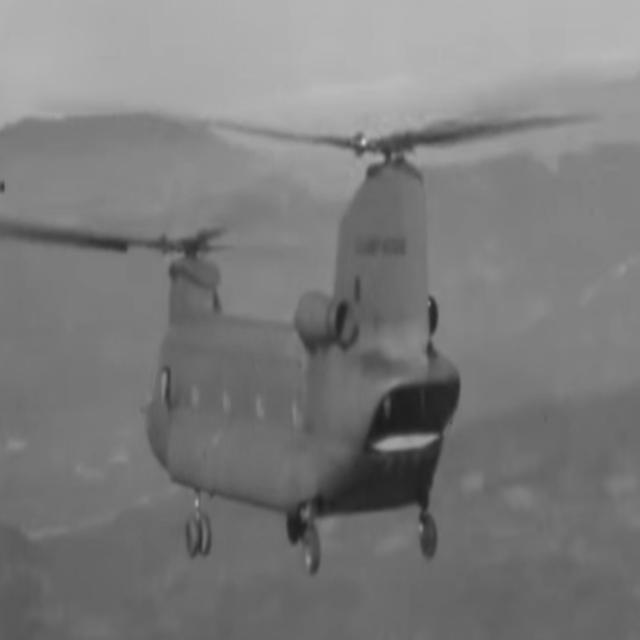Helicopter: (0, 116, 580, 574)
